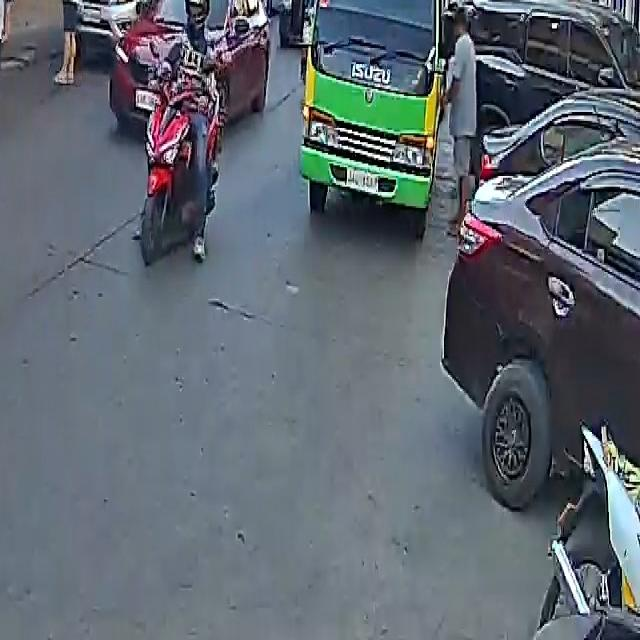car: (444, 61, 640, 526), (463, 0, 639, 151), (108, 0, 268, 149), (58, 0, 195, 66)
